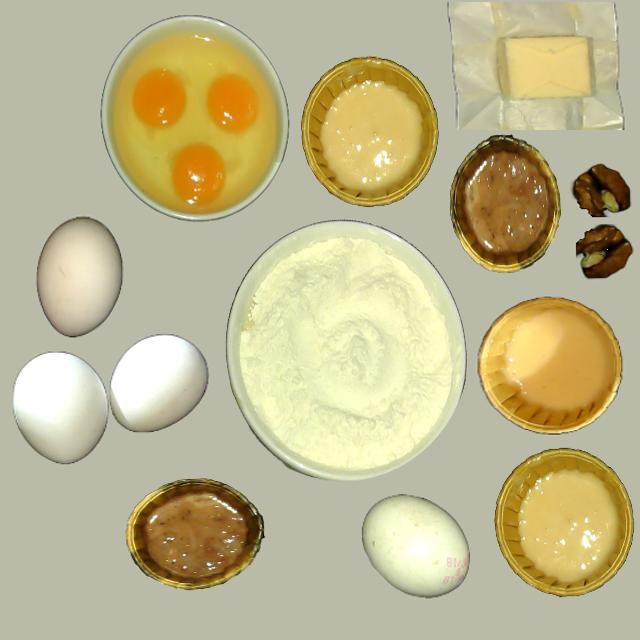Egg: (171, 143, 226, 205), (132, 70, 186, 128), (206, 74, 258, 132)
Flour: (225, 224, 449, 479)
